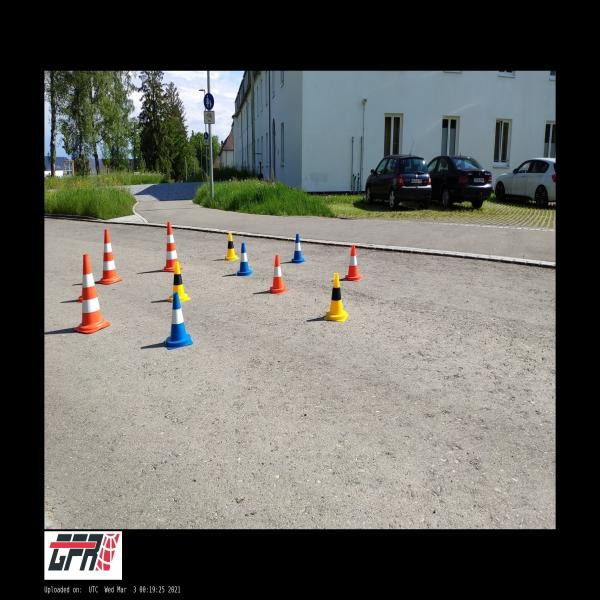blue_cone: (164, 292, 193, 349), (237, 243, 252, 275), (291, 234, 306, 264)
large_orange_cone: (73, 253, 110, 334), (97, 228, 122, 284), (162, 221, 183, 272)
orange_cone: (268, 255, 288, 294), (343, 245, 363, 281)
yellow_cone: (324, 273, 348, 322), (168, 262, 190, 302), (225, 232, 239, 261)
